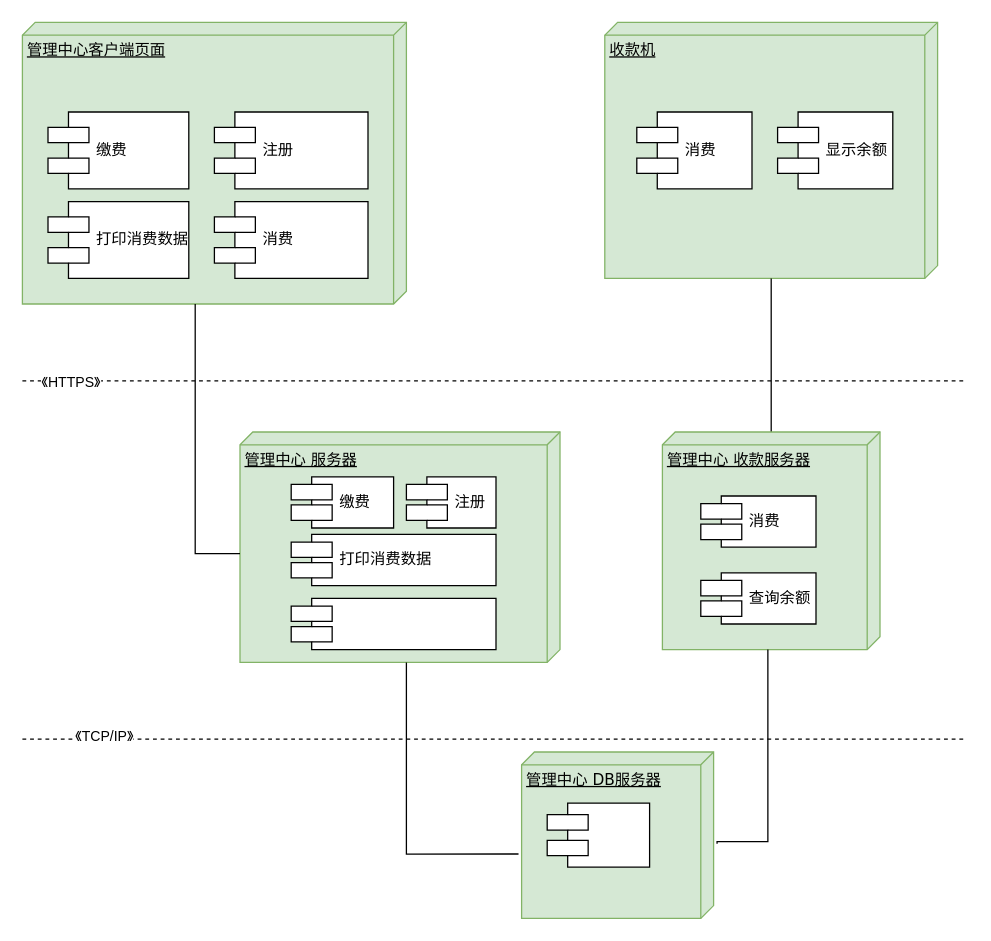
The diagram is 991 pixels wide and 941 high, and some of its shapes have lost their labels. The centre of each missing label's shape, as x and y in pixels:
DB: the point at 598,834
查看消费记录: the point at 393,623
